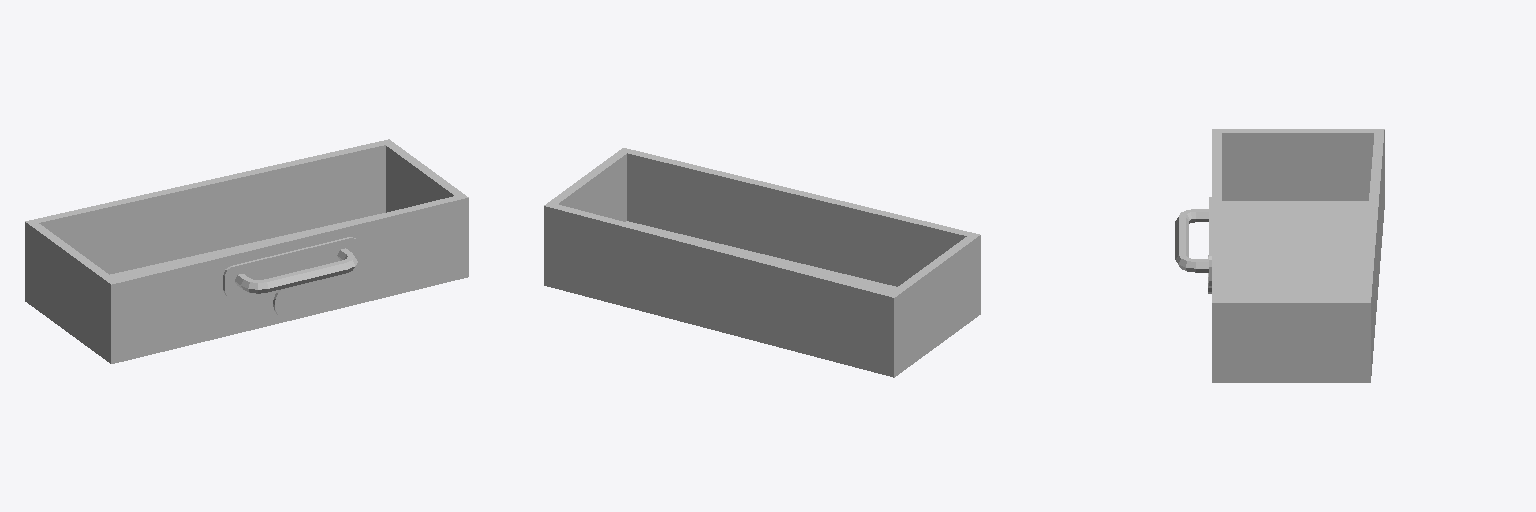
Rendered from Gimmick_Drawer01_Eye.obj.
3 views of the same model, side by side, from view 1: azimuth 30°, elevation 25°; view 2: azimuth 150°, elevation 25°; view 3: azimuth 270°, elevation 25° (orthographic).
Visible parts, largest first — view 1: Gimmick_Drawer01_Eye Gimmick; view 2: Gimmick_Drawer01_Eye Gimmick; view 3: Gimmick_Drawer01_Eye Gimmick.
Boxes of the visible parts, box(x1,y1,x2,y2) form: Gimmick_Drawer01_Eye Gimmick: box(25, 139, 468, 363); Gimmick_Drawer01_Eye Gimmick: box(544, 148, 980, 377); Gimmick_Drawer01_Eye Gimmick: box(1175, 129, 1384, 382).
Bounding box in the file's own units: 61 × 13 × 30.91.